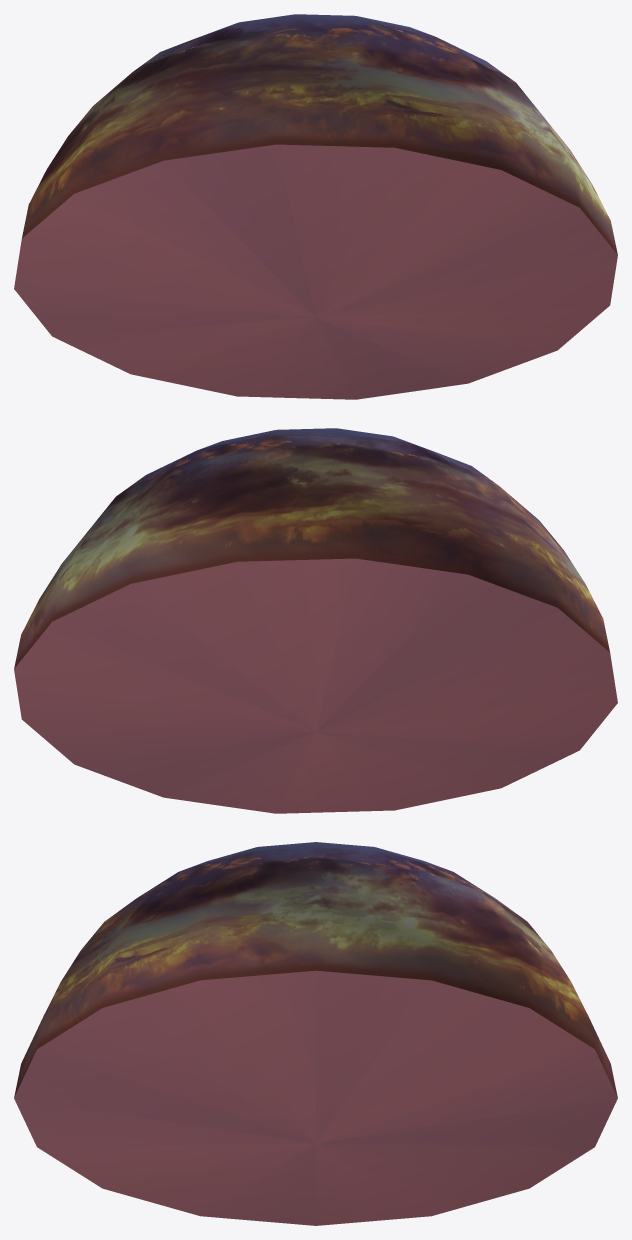
The model's file is bes2_sky_dome.glb.
The picture shows the model from 3 angles, top to bottom: view 1: azimuth 30°, elevation 25°; view 2: azimuth 150°, elevation 25°; view 3: azimuth 270°, elevation 25°; orthographic projection.
Parts seen in each view (by area): view 1: mesh_part1; view 2: mesh_part1; view 3: mesh_part1.
Boxes of the visible parts, x1,y1,x2,y2 form: mesh_part1: (14,14,617,399); mesh_part1: (14,428,617,813); mesh_part1: (14,842,617,1225).
Bounding box in the file's own units: 13.56 × 6.65 × 13.56.
1 material, 1 textured.
